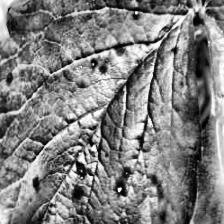Leaf Spot: (0, 0, 202, 224), (189, 0, 224, 224), (190, 114, 224, 224)
